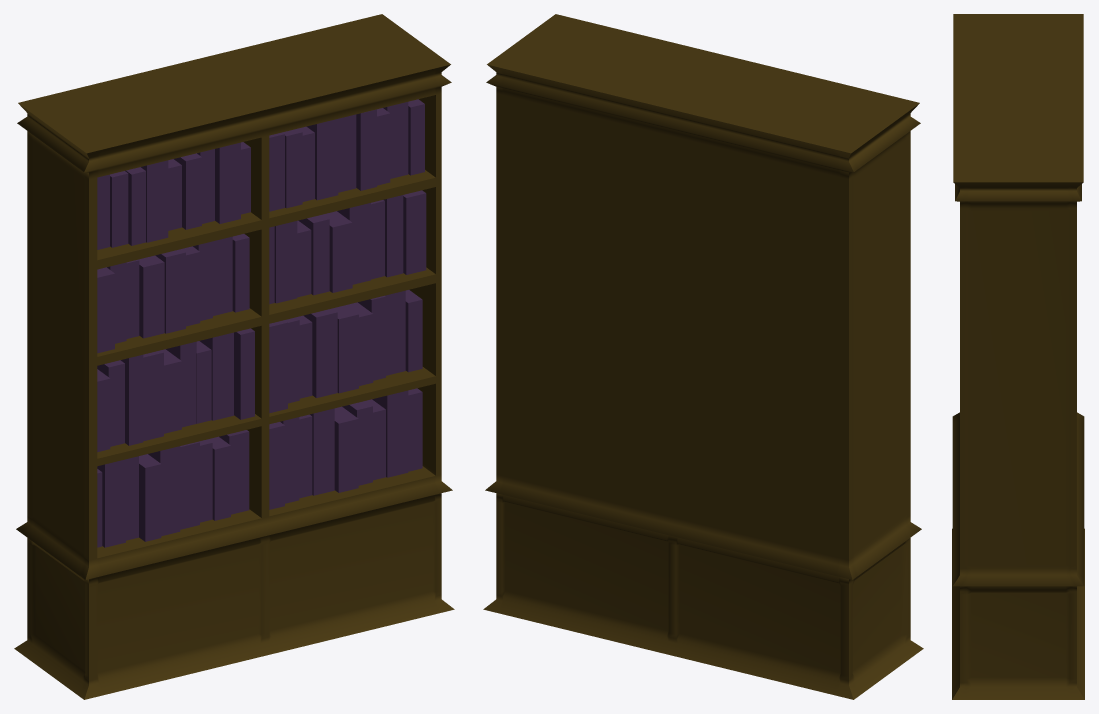
The model's file is DD_3_bookVar1_HENRY.fbx.
The picture shows the model from 3 angles, left to right: view 1: azimuth 30°, elevation 25°; view 2: azimuth 150°, elevation 25°; view 3: azimuth 270°, elevation 25°; orthographic projection. The views are drawn at different scales.
Visible parts, largest first — view 1: bookShelfBody, booksVari1; view 2: bookShelfBody; view 3: bookShelfBody.
Part boxes in pixels (box(x1,y1,x2,y2)): bookShelfBody: box(14, 14, 454, 699); booksVari1: box(97, 99, 426, 547); bookShelfBody: box(483, 14, 923, 699); bookShelfBody: box(952, 14, 1084, 699).
Size of the model in its own units: 11.46 by 16.11 by 3.76.
